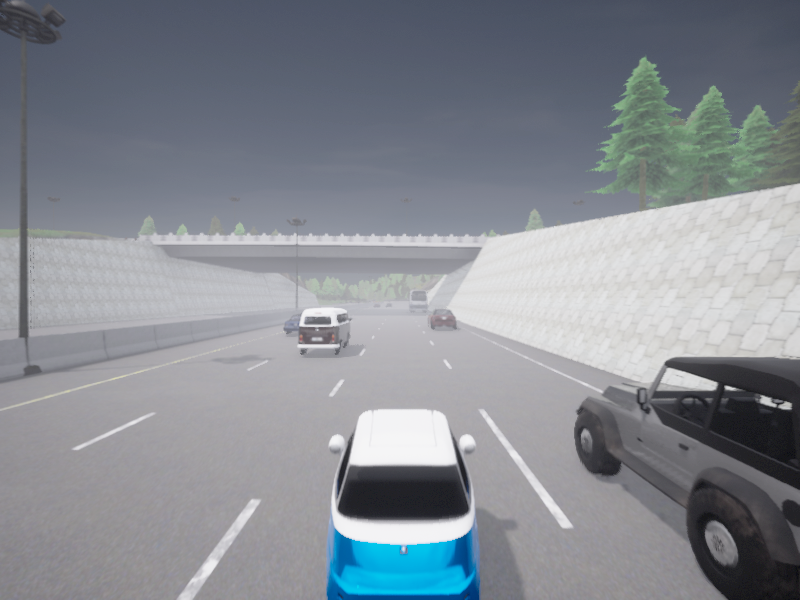vehicle: (575, 357, 799, 599), (327, 409, 479, 599), (298, 308, 351, 354), (428, 309, 456, 328), (407, 290, 427, 311), (283, 314, 301, 334), (374, 303, 380, 307), (386, 303, 392, 306)
